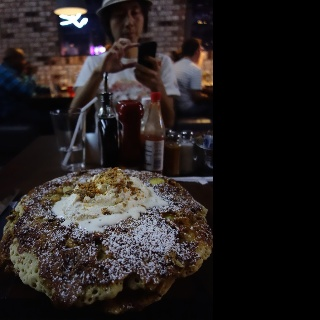without_mask: (108, 2, 143, 45), (15, 51, 26, 72), (18, 54, 27, 72), (198, 45, 201, 62)
